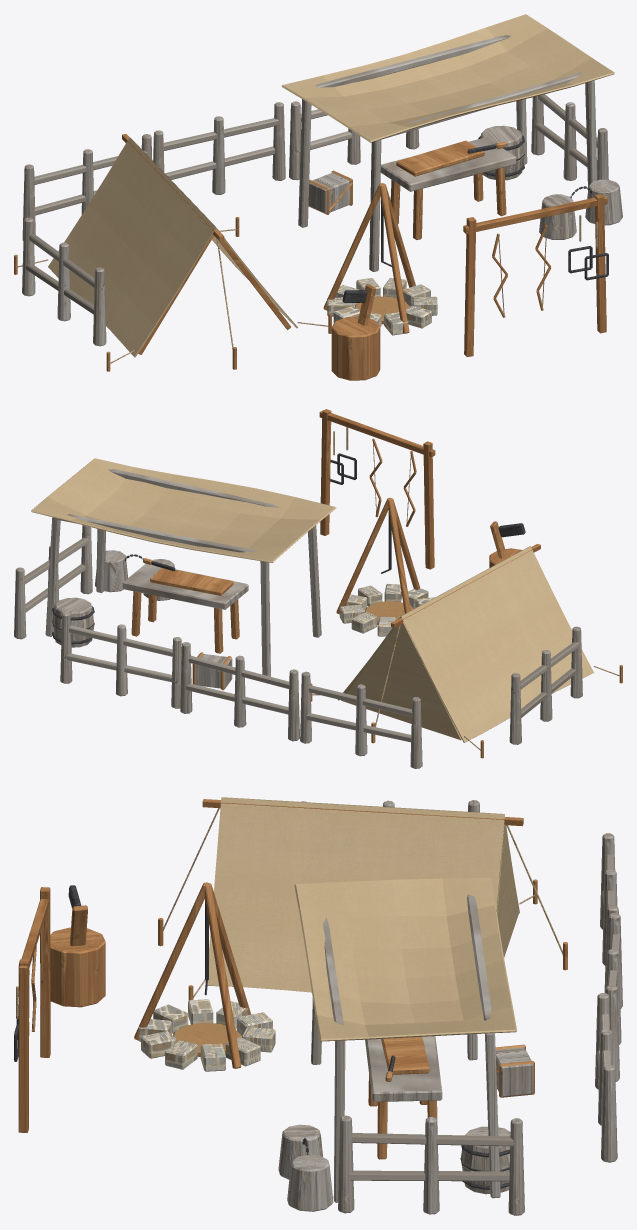
Rendered from hunters_camp_textured_v3.glb.
3 renders of one model, top to bottom at view 1: azimuth 30°, elevation 25°; view 2: azimuth 150°, elevation 25°; view 3: azimuth 270°, elevation 25°, orthographic. The views are drawn at different scales.
Visible parts, largest first — view 1: HC_Processing_Canopy, HC_Sleeping_Tent, HC_Field_Worktable, HC_Hunter_Tool_Rack, HC_Boundary_Rail_02, HC_Boundary_Rail_04, HC_Chopping_Block, HC_Hearth, HC_Boundary_Rail_05, HC_Cooking_Tripod, HC_Boundary_Rail_01, HC_Water_Buckets (+3 smaller); view 2: HC_Sleeping_Tent, HC_Processing_Canopy, HC_Field_Worktable, HC_Hunter_Tool_Rack, HC_Boundary_Rail_01, HC_Boundary_Rail_02, HC_Boundary_Rail_03, HC_Boundary_Rail_04, HC_Hearth, HC_Boundary_Rail_05, HC_Cooking_Tripod, HC_Supply_Barrel (+3 smaller); view 3: HC_Processing_Canopy, HC_Sleeping_Tent, HC_Boundary_Rail_05, HC_Hearth, HC_Field_Worktable, HC_Hunter_Tool_Rack, HC_Chopping_Block, HC_Cooking_Tripod, HC_Water_Buckets, HC_Boundary_Rail_03, HC_Boundary_Rail_02, HC_Supply_Crate (+2 smaller).
Boxes of the visible parts, x1,y1,x2,y2 form: HC_Processing_Canopy: (281,14,614,271); HC_Sleeping_Tent: (14,134,331,371); HC_Field_Worktable: (380,137,516,239); HC_Hunter_Tool_Rack: (463,194,608,356); HC_Boundary_Rail_02: (153,102,285,194); HC_Boundary_Rail_04: (22,217,106,346); HC_Chopping_Block: (331,284,380,380); HC_Hearth: (327,277,437,335); HC_Boundary_Rail_05: (531,94,608,180); HC_Cooking_Tripod: (323,183,415,333); HC_Boundary_Rail_01: (22,134,152,240); HC_Water_Buckets: (539,179,622,239); HC_Sleeping_Tent: (310,544,622,758); HC_Processing_Canopy: (31,458,336,676); HC_Field_Worktable: (122,558,248,653); HC_Hunter_Tool_Rack: (319,409,435,569); HC_Boundary_Rail_01: (300,671,422,768); HC_Boundary_Rail_02: (180,642,299,741); HC_Boundary_Rail_03: (60,612,181,708); HC_Boundary_Rail_04: (509,626,582,744); HC_Hearth: (339,583,434,636); HC_Boundary_Rail_05: (14,525,92,639); HC_Cooking_Tripod: (336,497,420,614); HC_Supply_Barrel: (52,597,94,647); HC_Processing_Canopy: (294,878,517,1202); HC_Sleeping_Tent: (158,797,567,1000); HC_Boundary_Rail_05: (338,1115,524,1215); HC_Hearth: (138,999,275,1071); HC_Field_Worktable: (365,1036,442,1159); HC_Hunter_Tool_Rack: (14,887,50,1132); HC_Chopping_Block: (50,885,105,1007); HC_Cooking_Tripod: (134,882,251,1068); HC_Water_Buckets: (278,1124,333,1211); HC_Boundary_Rail_03: (595,993,617,1162); HC_Boundary_Rail_02: (605,913,622,1081); HC_Supply_Crate: (495,1044,534,1097).
Size of the model in its own units: 9.25 by 2.31 by 7.14.
Materials: 8 (8 with a texture image).
